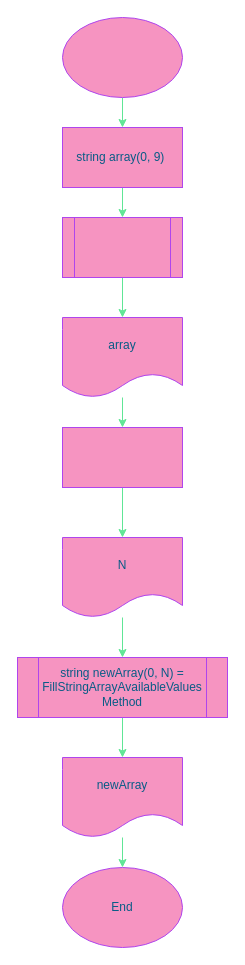
Some shapes in this 245 by 965 pixel diagram are drawn without their labels. The shapes that lost their labels are listed below. From the top down, each one's box as (x1, y1, x2, y2) in pixels, then its label:
(62, 16, 182, 98): Start
(62, 216, 182, 278): FillStringArray Method
(62, 426, 182, 488): N = random[0, 3]
